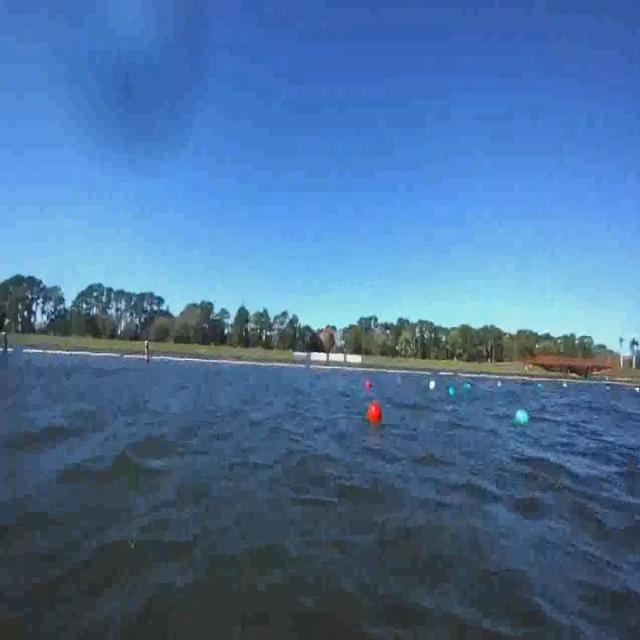blue-buoy: (497, 377, 504, 389)
green-buoy: (514, 408, 528, 428), (462, 378, 474, 393), (449, 386, 457, 396)
red-buoy: (367, 403, 381, 428), (364, 380, 374, 391)
yellow-buoy: (428, 380, 436, 390)
